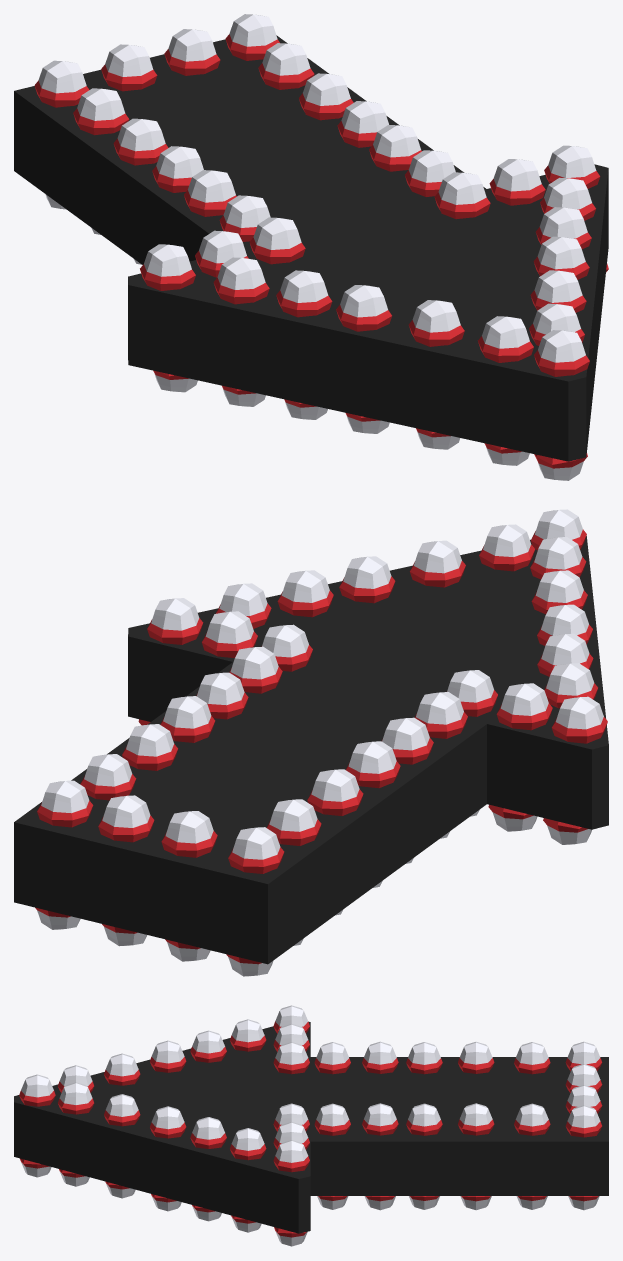
The model's file is flechaLuz.fbx.
The picture shows the model from 3 angles, top to bottom: view 1: azimuth 30°, elevation 25°; view 2: azimuth 150°, elevation 25°; view 3: azimuth 270°, elevation 25°; orthographic projection. The views are drawn at different scales.
Parts seen in each view (by area): view 1: Luces; view 2: Luces; view 3: Luces.
Boxes of the visible parts, x1,y1,x2,y2 form: Luces: (14,14,608,480); Luces: (14,509,608,976); Luces: (14,1005,608,1246).
Bounding box in the file's own units: 378 × 112 × 595.
